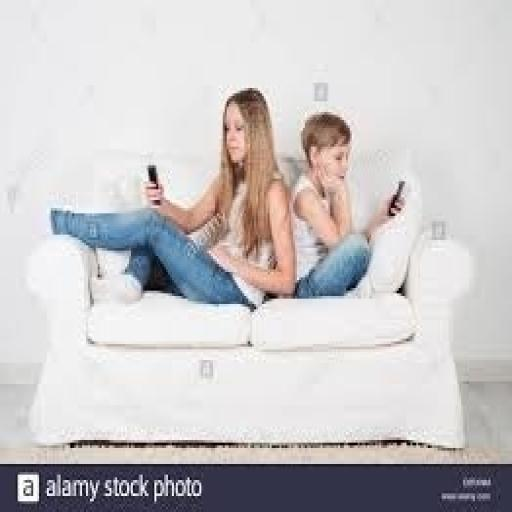sitting: (47, 86, 297, 310), (288, 109, 406, 299)
